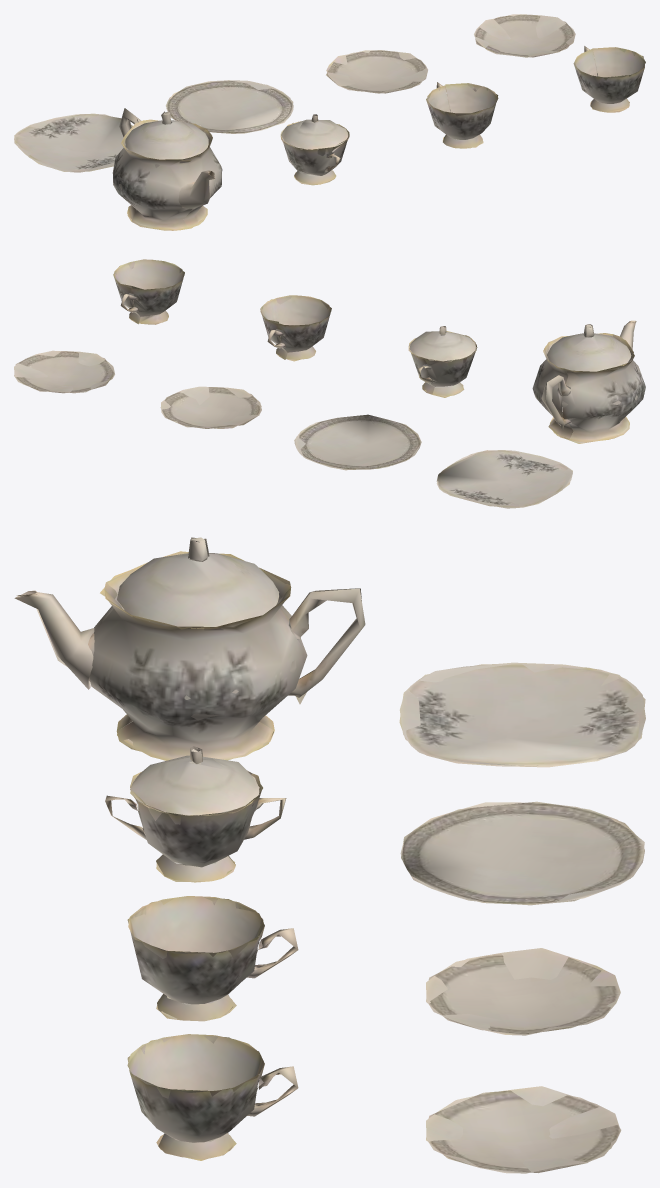
The model's file is tea_set.glb.
The picture shows the model from 3 angles, top to bottom: view 1: azimuth 30°, elevation 25°; view 2: azimuth 150°, elevation 25°; view 3: azimuth 270°, elevation 25°; orthographic projection. The views are drawn at different scales.
Parts seen in each view (by area): view 1: tea_set_01_plate_large_square_01; view 2: tea_set_01_plate_large_square_01; view 3: tea_set_01_plate_large_square_01.
Boxes of the visible parts, x1,y1,x2,y2 form: tea_set_01_plate_large_square_01: [14, 14, 645, 230]; tea_set_01_plate_large_square_01: [14, 259, 645, 508]; tea_set_01_plate_large_square_01: [14, 537, 645, 1173].
Size of the model in its own units: 0.9198 by 0.166 by 0.4831.
1 material, 1 textured.
